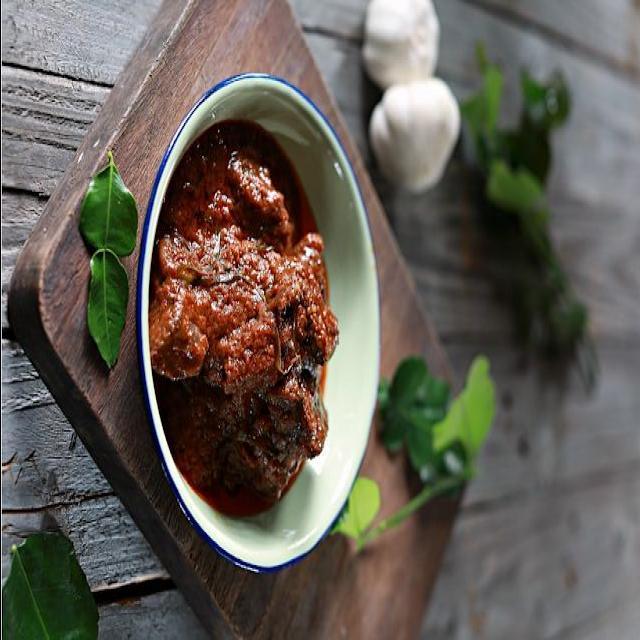rendang: (144, 118, 338, 520)
